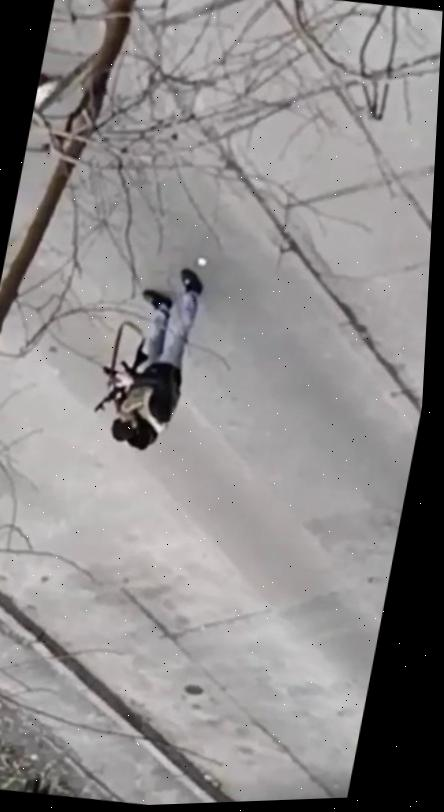person: (84, 256, 210, 460)
